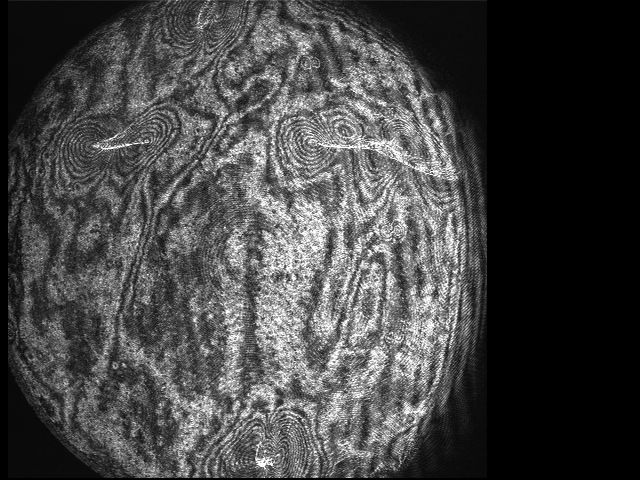plume: (58, 116, 180, 177), (274, 106, 365, 174), (214, 415, 307, 480), (162, 1, 256, 51)
